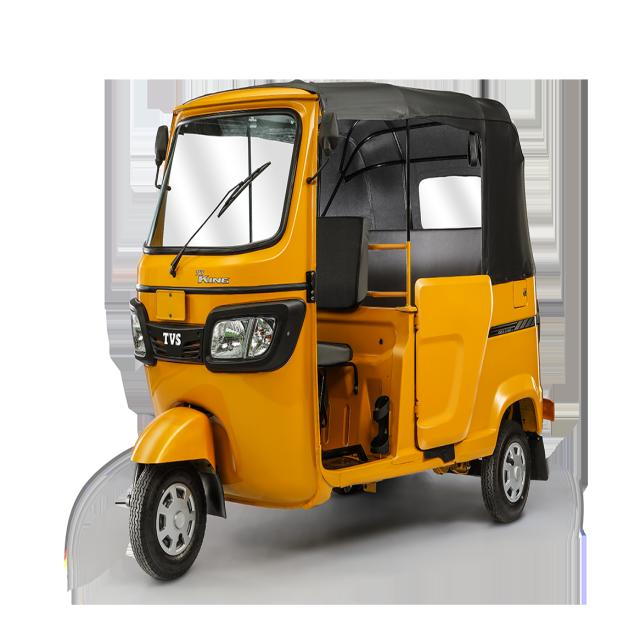autorickshaw: (129, 80, 560, 579)
